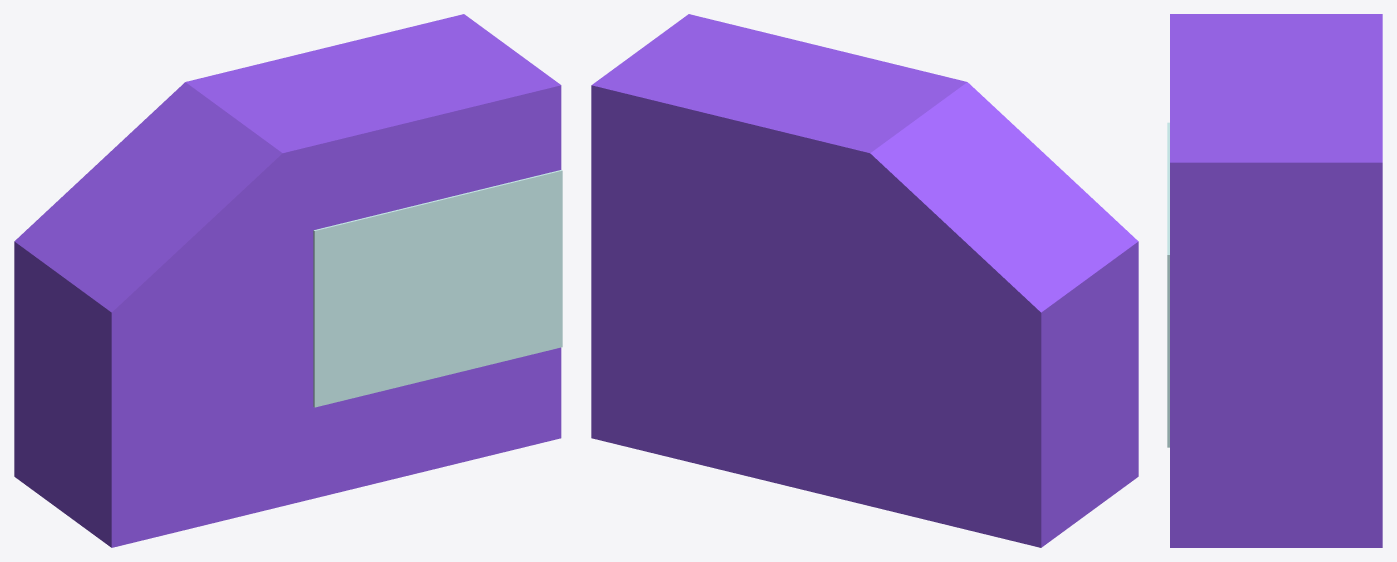
The picture shows the model from 3 angles, left to right: view 1: azimuth 30°, elevation 25°; view 2: azimuth 150°, elevation 25°; view 3: azimuth 270°, elevation 25°; orthographic projection. The views are drawn at different scales.
Parts seen in each view (by area): view 1: Mesh_0.009; view 2: Mesh_0.009; view 3: Mesh_0.009.
Part boxes in pixels (x1,y1,x2,y2): Mesh_0.009: (14, 14, 562, 547); Mesh_0.009: (591, 14, 1138, 547); Mesh_0.009: (1167, 14, 1382, 547).
Bounding box in the file's own units: 4 × 3 × 1.52.
